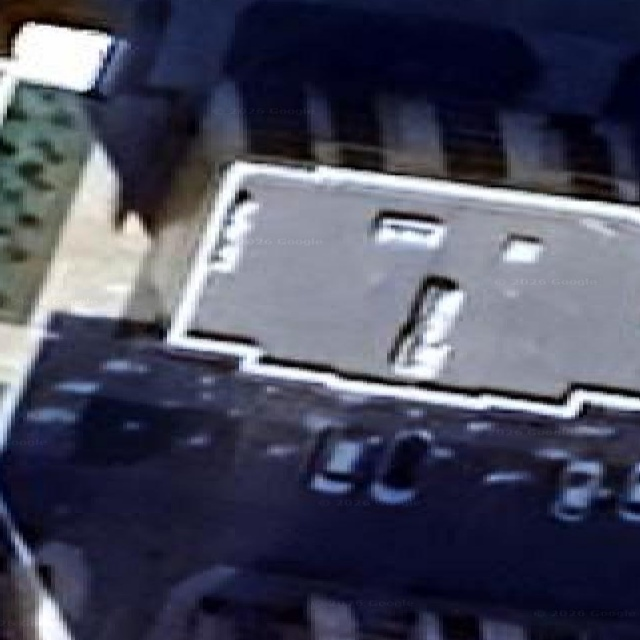car: (307, 427, 379, 492), (371, 430, 430, 504), (552, 460, 603, 520), (617, 462, 639, 522)
